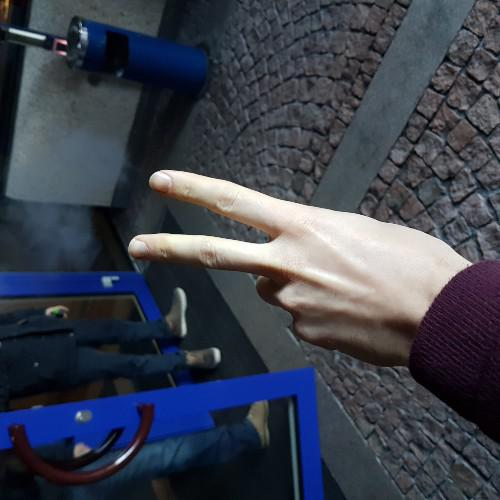scissors: (122, 161, 464, 368)
